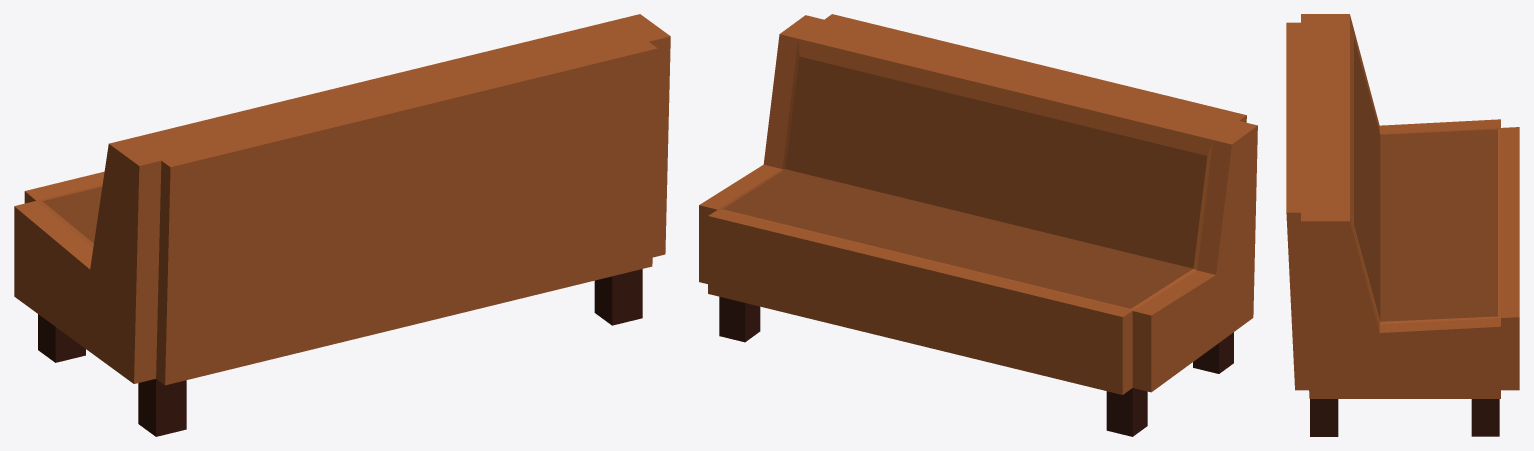
Rendered from Couch.fbx.
The picture shows the model from 3 angles, left to right: view 1: azimuth 30°, elevation 25°; view 2: azimuth 150°, elevation 25°; view 3: azimuth 270°, elevation 25°; orthographic projection. The views are drawn at different scales.
Visible parts, largest first — view 1: Couch; view 2: Couch; view 3: Couch.
Boxes of the visible parts, bbox=[...] form: Couch: bbox=[14, 14, 670, 436]; Couch: bbox=[699, 14, 1257, 436]; Couch: bbox=[1286, 14, 1519, 436].
Bounding box in the file's own units: 822 × 415 × 391.
